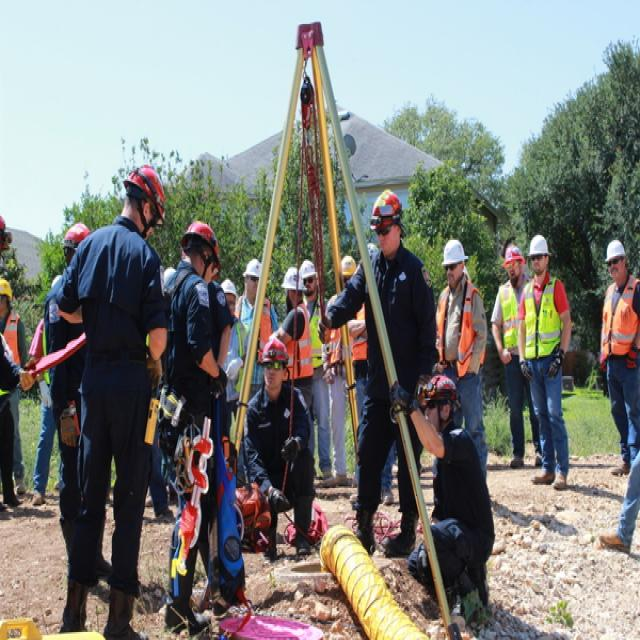Reflective-Jacket: (494, 281, 539, 399), (436, 280, 486, 376), (272, 290, 316, 382), (240, 295, 284, 385), (522, 275, 564, 360), (601, 275, 640, 360), (322, 293, 354, 377), (294, 298, 324, 372), (0, 310, 25, 394)
Safety-Helmet: (180, 208, 234, 285), (57, 203, 99, 265), (120, 158, 168, 212), (412, 371, 462, 409), (367, 184, 406, 230), (440, 234, 470, 268), (340, 250, 364, 285), (241, 251, 266, 282), (220, 272, 240, 310), (281, 261, 304, 294), (160, 256, 181, 292), (297, 254, 321, 285), (603, 235, 627, 264), (527, 230, 551, 258), (501, 242, 526, 267), (0, 277, 13, 299)
